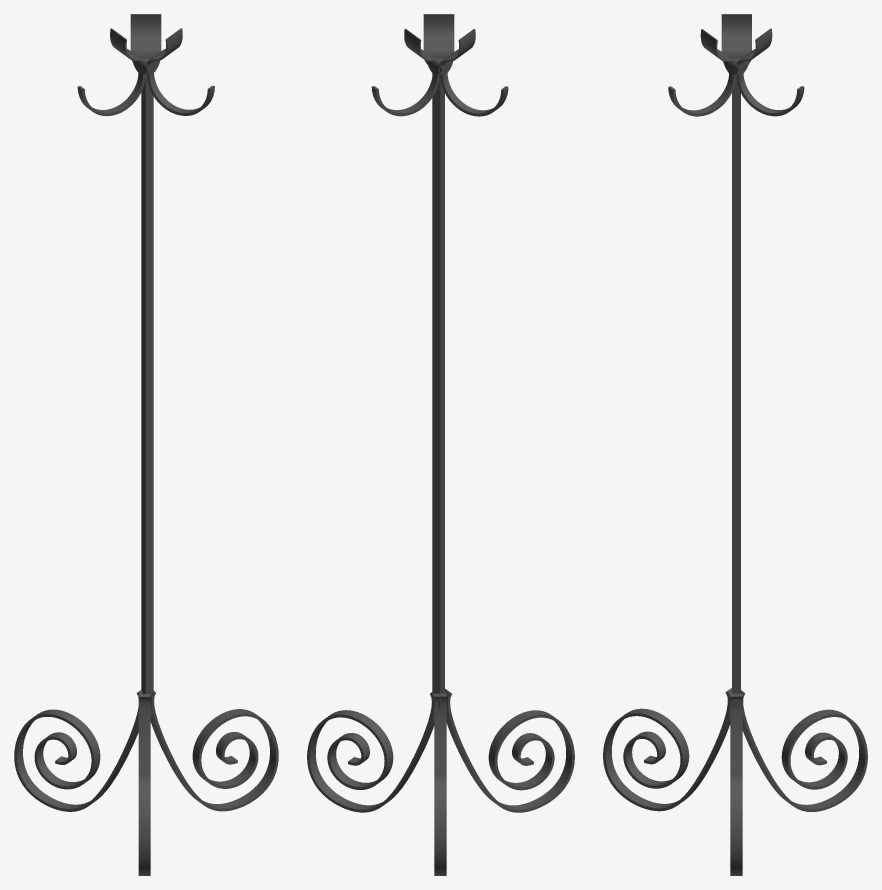
Rendered from CoatStand.glb.
The picture shows the model from 3 angles, left to right: view 1: azimuth 30°, elevation 25°; view 2: azimuth 150°, elevation 25°; view 3: azimuth 270°, elevation 25°; orthographic projection.
Visible parts, largest first — view 1: node_id10, node_id30, node_id26, node_id6, node_id42, node_id22, node_id14, node_id38, node_id34; view 2: node_id10, node_id6, node_id30, node_id26, node_id38, node_id14, node_id18, node_id34, node_id42; view 3: node_id10, node_id6, node_id26, node_id30, node_id34, node_id22, node_id18, node_id38, node_id42.
Part boxes in pixels (left/top/right/bottom): node_id10: left=141, top=58, right=153, bottom=715; node_id30: left=150, top=691, right=278, bottom=811; node_id26: left=14, top=690, right=142, bottom=811; node_id6: left=138, top=694, right=150, bottom=875; node_id42: left=130, top=14, right=161, bottom=63; node_id22: left=146, top=73, right=214, bottom=115; node_id14: left=77, top=73, right=145, bottom=116; node_id38: left=144, top=28, right=182, bottom=74; node_id34: left=110, top=28, right=148, bottom=74; node_id10: left=432, top=58, right=444, bottom=716; node_id6: left=445, top=688, right=574, bottom=812; node_id30: left=307, top=692, right=434, bottom=812; node_id26: left=434, top=693, right=446, bottom=875; node_id38: left=423, top=14, right=454, bottom=64; node_id14: left=440, top=73, right=508, bottom=116; node_id18: left=371, top=74, right=439, bottom=116; node_id34: left=437, top=29, right=475, bottom=74; node_id42: left=404, top=28, right=442, bottom=74; node_id10: left=732, top=59, right=740, bottom=707; node_id6: left=603, top=688, right=731, bottom=811; node_id26: left=741, top=690, right=867, bottom=812; node_id30: left=730, top=693, right=742, bottom=875; node_id34: left=721, top=14, right=751, bottom=63; node_id22: left=668, top=73, right=736, bottom=116; node_id18: left=737, top=73, right=804, bottom=116; node_id38: left=700, top=29, right=738, bottom=74; node_id42: left=734, top=28, right=772, bottom=74.
Bounding box in the file's own units: 0.1344 × 0.512 × 0.1534.
Materials: 10 (10 with a texture image).
